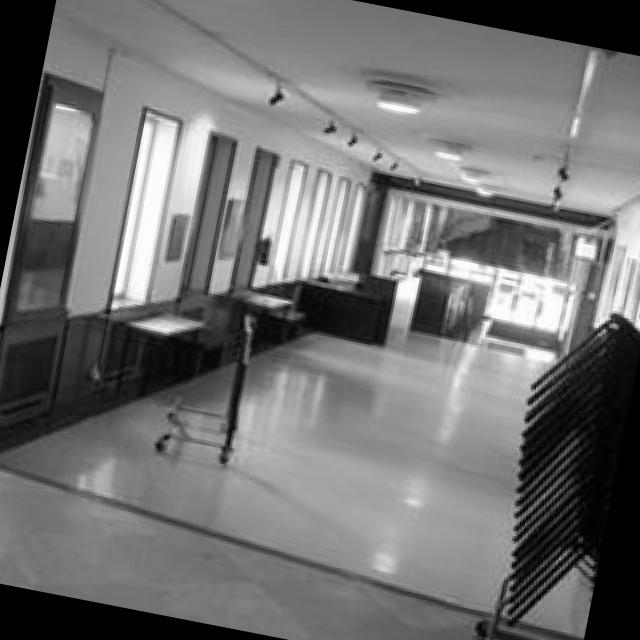2001: (109, 105, 181, 307), (266, 159, 307, 282), (295, 167, 331, 277)
ceiling beam: (54, 0, 640, 217)
entrance: (365, 191, 589, 352)
floor -X: (0, 303, 592, 640)
furniture crop: (295, 268, 418, 342)
lamp crop: (373, 93, 420, 115), (434, 141, 459, 160), (458, 164, 484, 182)
wall clock: (0, 12, 370, 436), (343, 172, 610, 353), (581, 194, 640, 567)
